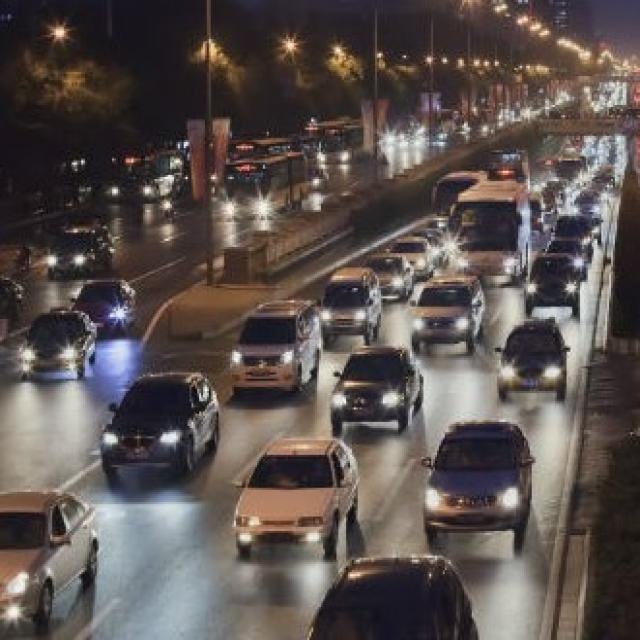bus: (452, 180, 532, 282), (220, 150, 308, 218), (110, 150, 184, 202), (314, 122, 376, 164)
car: (230, 434, 364, 558), (0, 487, 106, 636), (422, 418, 532, 555), (304, 555, 481, 640), (98, 372, 223, 478), (227, 300, 323, 393), (326, 346, 423, 432), (494, 317, 570, 402), (18, 309, 98, 381), (410, 279, 483, 352), (322, 266, 382, 341), (69, 273, 137, 335), (44, 221, 114, 277), (525, 249, 581, 318), (360, 253, 415, 302), (389, 236, 436, 279), (555, 214, 592, 264)
